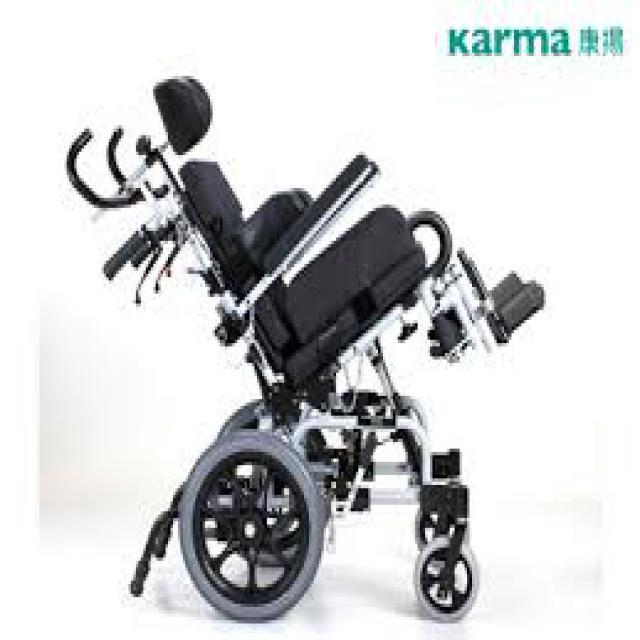wheelchair: (59, 66, 546, 630)
